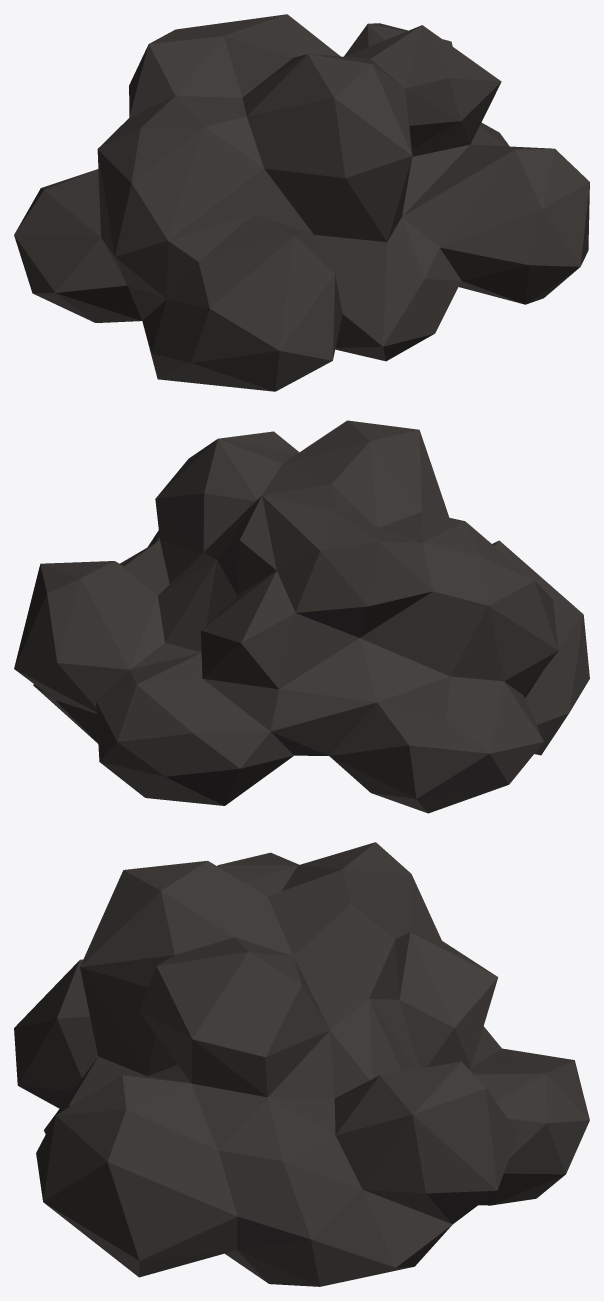
The model's file is Rock_4.fbx.
3 renders of one model, top to bottom at view 1: azimuth 30°, elevation 25°; view 2: azimuth 150°, elevation 25°; view 3: azimuth 270°, elevation 25°, orthographic. The views are drawn at different scales.
Visible parts, largest first — view 1: Group26708; view 2: Group26708; view 3: Group26708.
Boxes of the visible parts, x1,y1,x2,y2 form: Group26708: [14, 14, 589, 391]; Group26708: [14, 420, 589, 813]; Group26708: [14, 842, 589, 1286].
Size of the model in its own units: 4.18 by 2.38 by 3.98.
